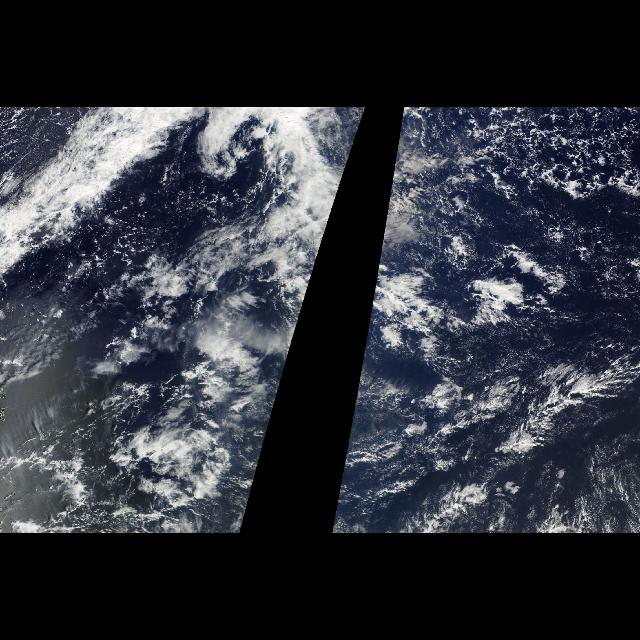Gravel: (412, 107, 640, 253)
